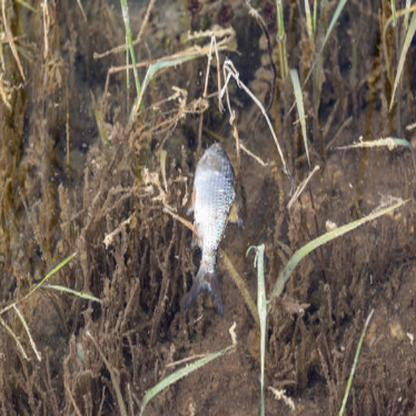deceased fish: (183, 137, 233, 318)
